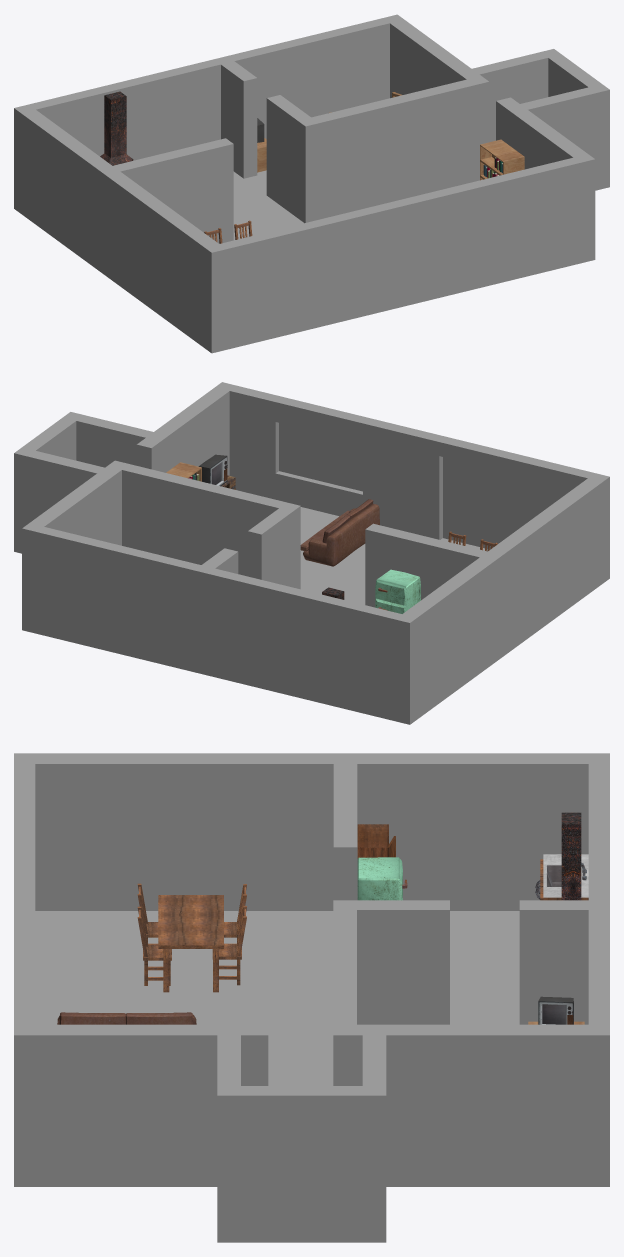
File: H4_Int_Clean.fbx
The picture shows the model from 3 angles, top to bottom: view 1: azimuth 30°, elevation 25°; view 2: azimuth 150°, elevation 25°; view 3: azimuth 270°, elevation 25°; orthographic projection. The views are drawn at different scales.
Visible parts, largest first — view 1: Wall9, Wall2, Oven2, BookShelf5; view 2: Wall9, Wall2, Couch_6, Fidge4, Tube_tv3; view 3: Wall9, Table4, Wall2, Fidge4, Oven2, Couch_6, KItchen_Sink_6, Closet7, Tube_tv5, Chair16, Chair17.
Part boxes in pixels (x1=…): Wall9: x1=14, y1=14, x2=609, y2=353; Wall2: x1=113, y1=138, x2=233, y2=243; Oven2: x1=100, y1=91, x2=133, y2=165; BookShelf5: x1=480, y1=139, x2=524, y2=180; Wall9: x1=14, y1=382, x2=609, y2=724; Wall2: x1=365, y1=523, x2=487, y2=607; Couch_6: x1=300, y1=499, x2=379, y2=566; Fidge4: x1=375, y1=569, x2=420, y2=613; Tube_tv3: x1=198, y1=454, x2=227, y2=486; Wall9: x1=14, y1=753, x2=609, y2=1242; Table4: x1=158, y1=895, x2=223, y2=992; Wall2: x1=333, y1=764, x2=357, y2=900; Fidge4: x1=357, y1=857, x2=407, y2=900; Oven2: x1=561, y1=812, x2=581, y2=900; Couch_6: x1=57, y1=1012, x2=196, y2=1024; KItchen_Sink_6: x1=535, y1=854, x2=588, y2=900; Closet7: x1=357, y1=824, x2=395, y2=858; Tube_tv5: x1=538, y1=996, x2=573, y2=1024; Chair16: x1=137, y1=906, x2=171, y2=985; Chair17: x1=212, y1=906, x2=246, y2=985.
Bounding box in the file's own units: 41.12 × 8.49 × 30.23.
